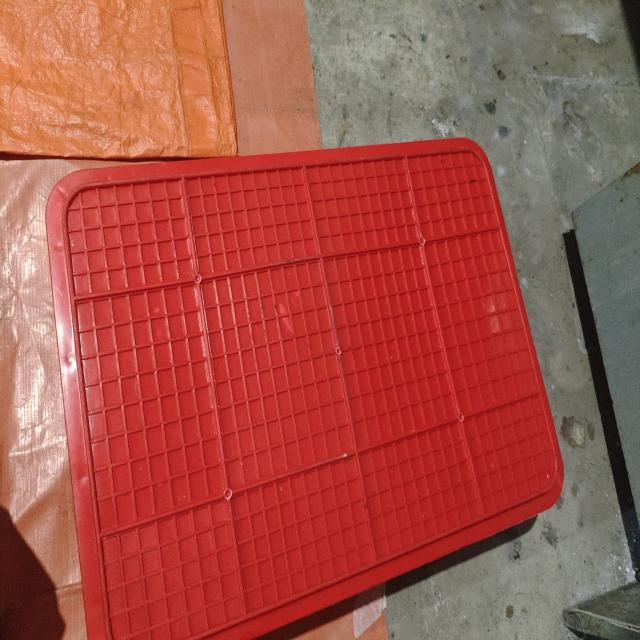red plastic box: (45, 138, 565, 640)
